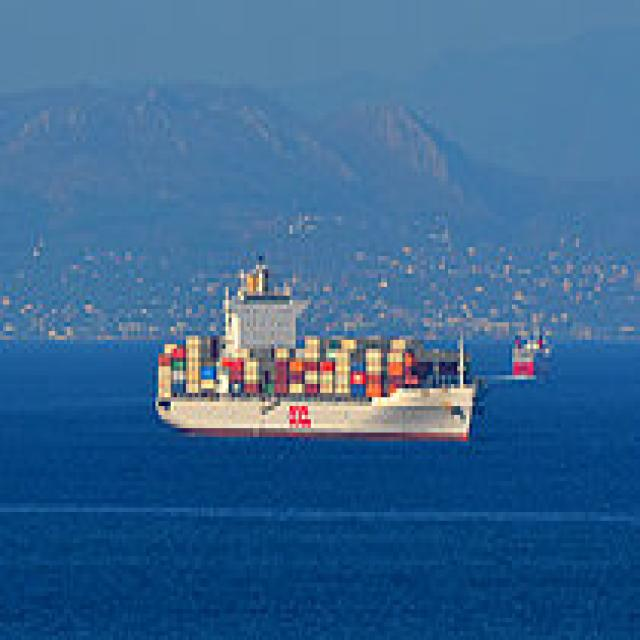Cargo: (150, 248, 478, 442)
